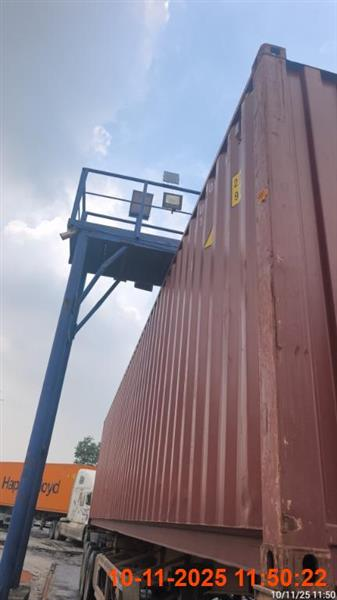hole: (77, 43, 335, 599), (0, 461, 96, 543)
